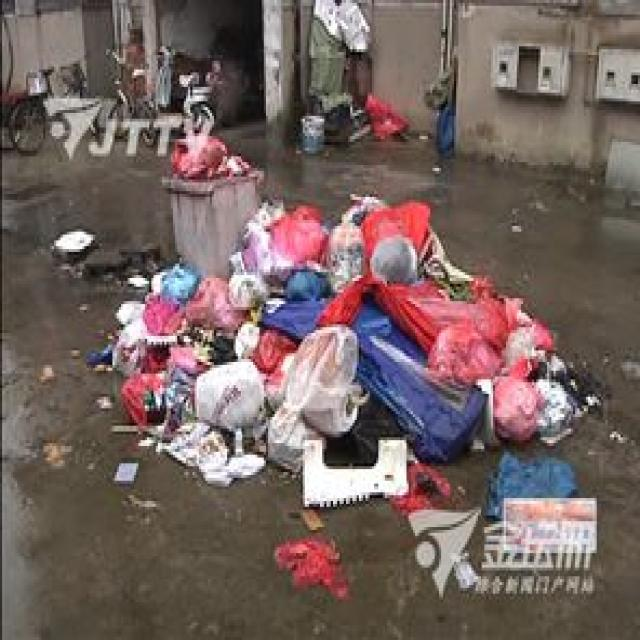garbage: (86, 191, 584, 591)
overflow: (160, 116, 259, 275)
